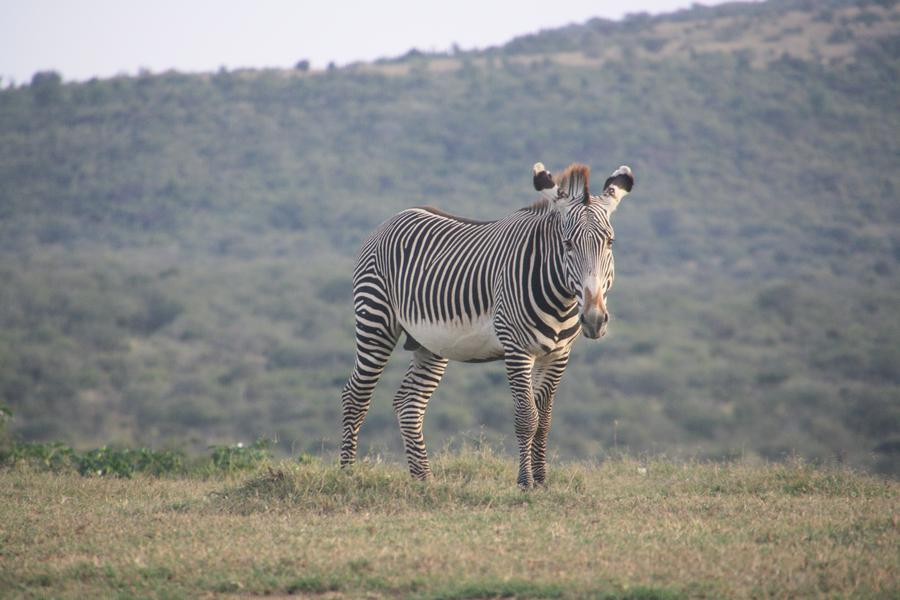zebra_grevys: (355, 200, 533, 347)
